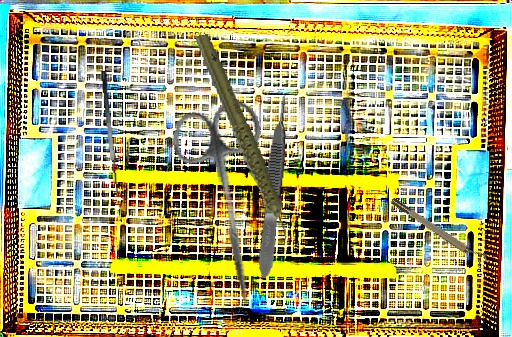Fixation Ring: (388, 191, 491, 270)
Handpiece: (192, 26, 292, 254)
Iris Scissors: (167, 96, 293, 314)
Spatula Surgical: (99, 69, 128, 196)
Tissue Forceps: (254, 93, 295, 279)
